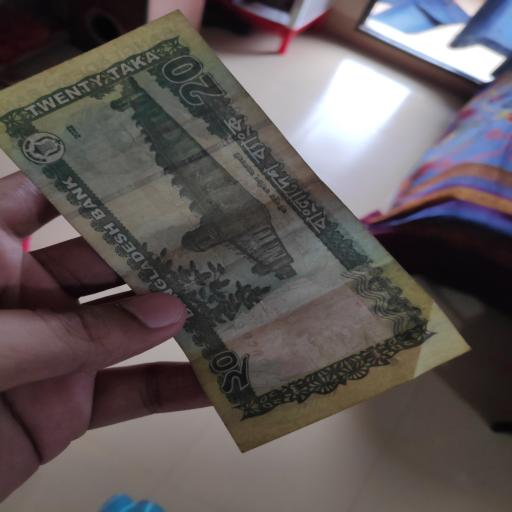20taka: (1, 15, 466, 453)
